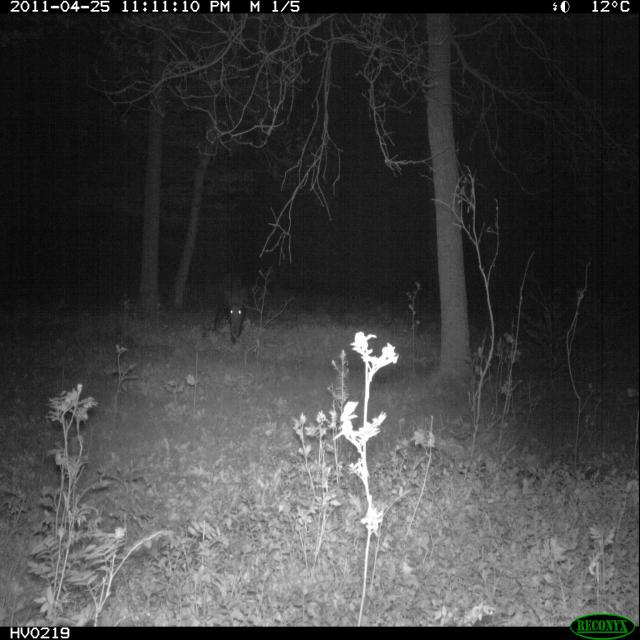boar: (191, 259, 260, 364)
